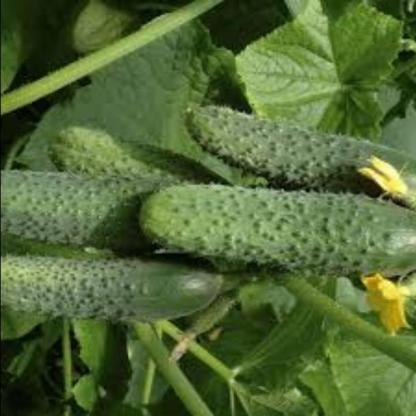cucumber: (135, 179, 416, 288), (172, 102, 416, 195), (1, 251, 237, 337), (1, 158, 192, 248)
